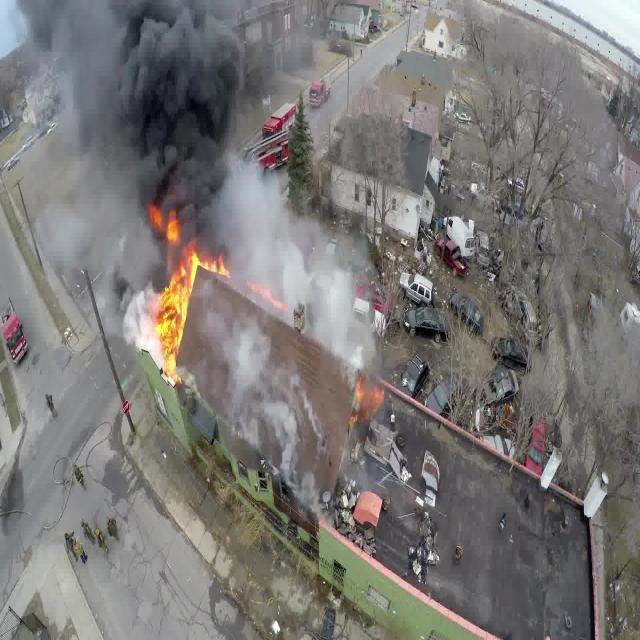Fire: (132, 184, 237, 382), (347, 362, 384, 426)
Smoke: (18, 0, 392, 528)
